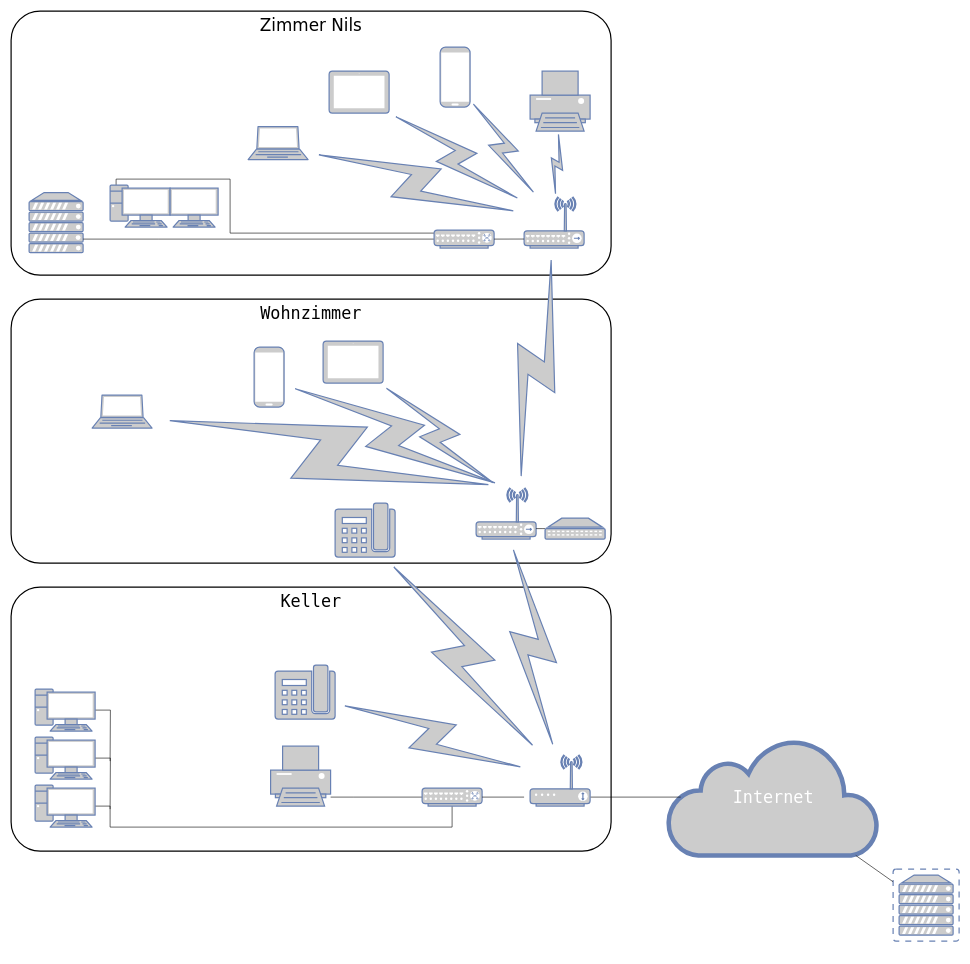
This 970x964 diagram has some shape labels left out. Each missing label, with the centre of its shape:
Musiccast: point (574, 528)
NilsVPS: point (925, 904)
